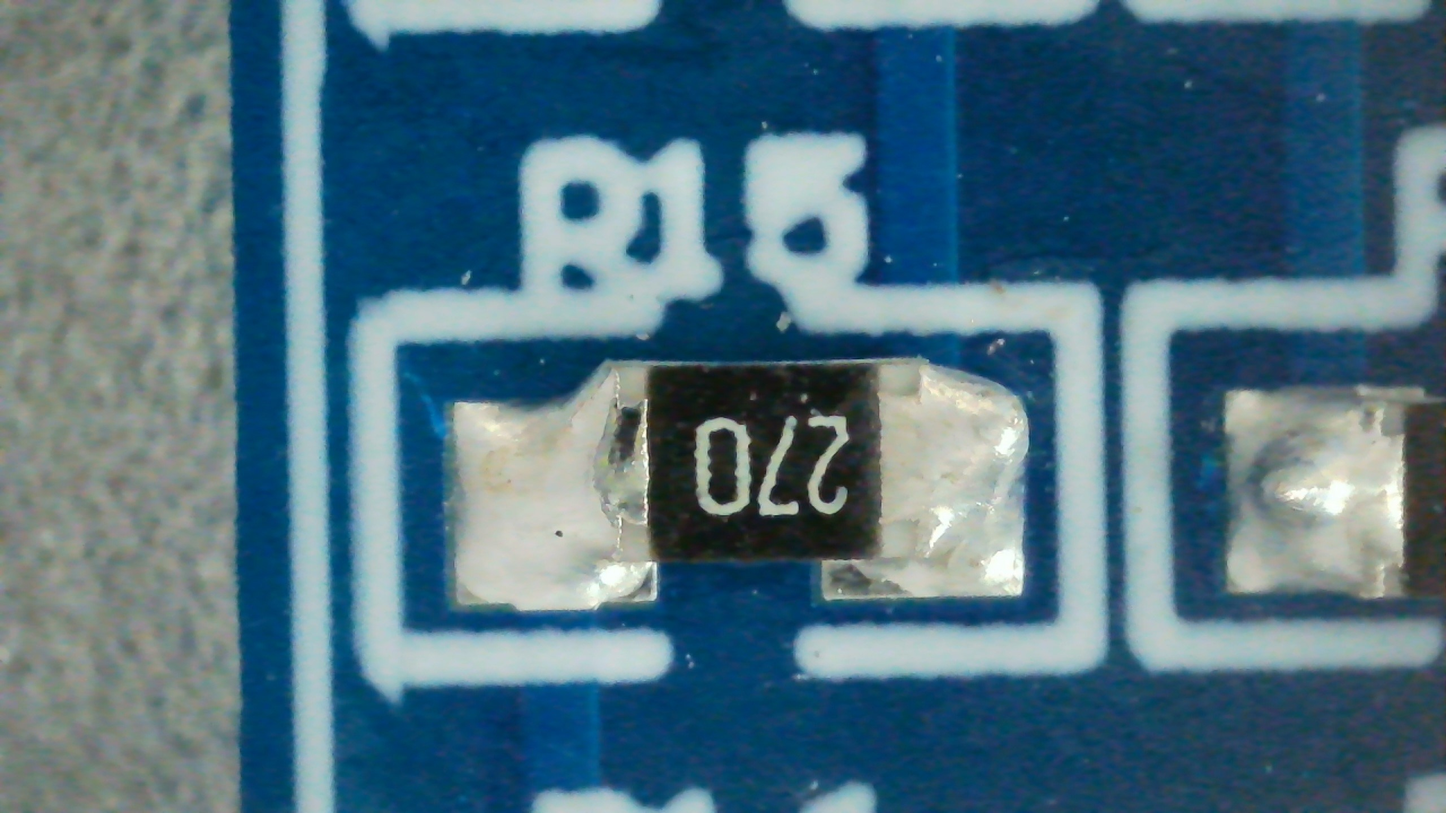NG: (453, 358, 1030, 612)
